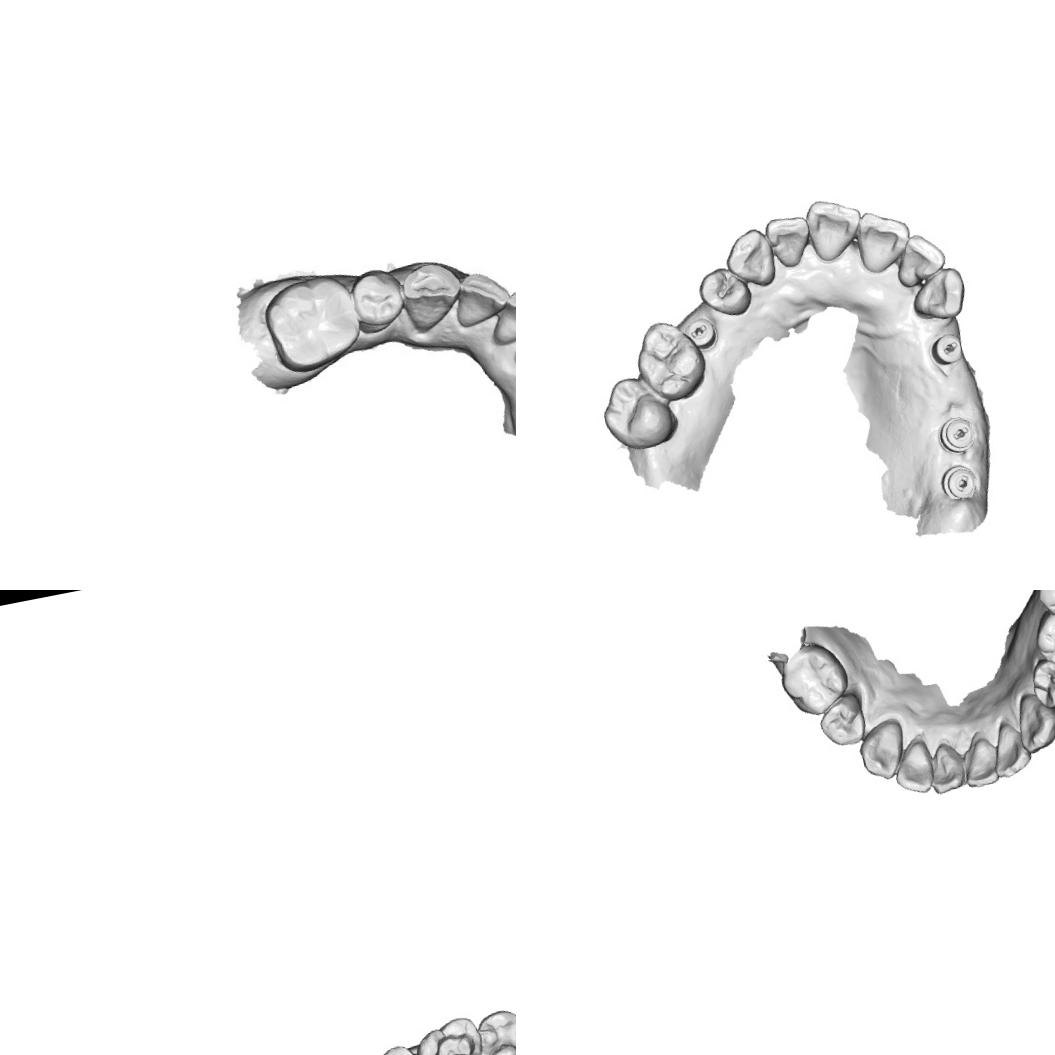canine: (396, 256, 468, 335), (718, 222, 780, 294), (905, 264, 972, 326), (854, 716, 912, 782), (1009, 686, 1055, 754)
implant_minus: (936, 460, 982, 506), (934, 411, 979, 456), (926, 328, 967, 369), (683, 312, 721, 352)
incisor: (800, 190, 869, 266), (850, 202, 918, 277), (445, 264, 516, 329), (888, 227, 950, 290), (760, 210, 816, 272), (885, 738, 939, 800), (986, 717, 1033, 780), (956, 734, 1002, 790), (924, 738, 969, 795), (484, 284, 516, 348)
inlay: (421, 1025, 483, 1055)
molar: (256, 270, 368, 378), (626, 312, 712, 409), (594, 367, 684, 456), (773, 636, 856, 723)
premolar: (347, 262, 412, 337), (692, 260, 756, 322), (811, 688, 870, 751), (472, 1002, 516, 1055), (1025, 650, 1055, 712), (1029, 602, 1055, 671)
